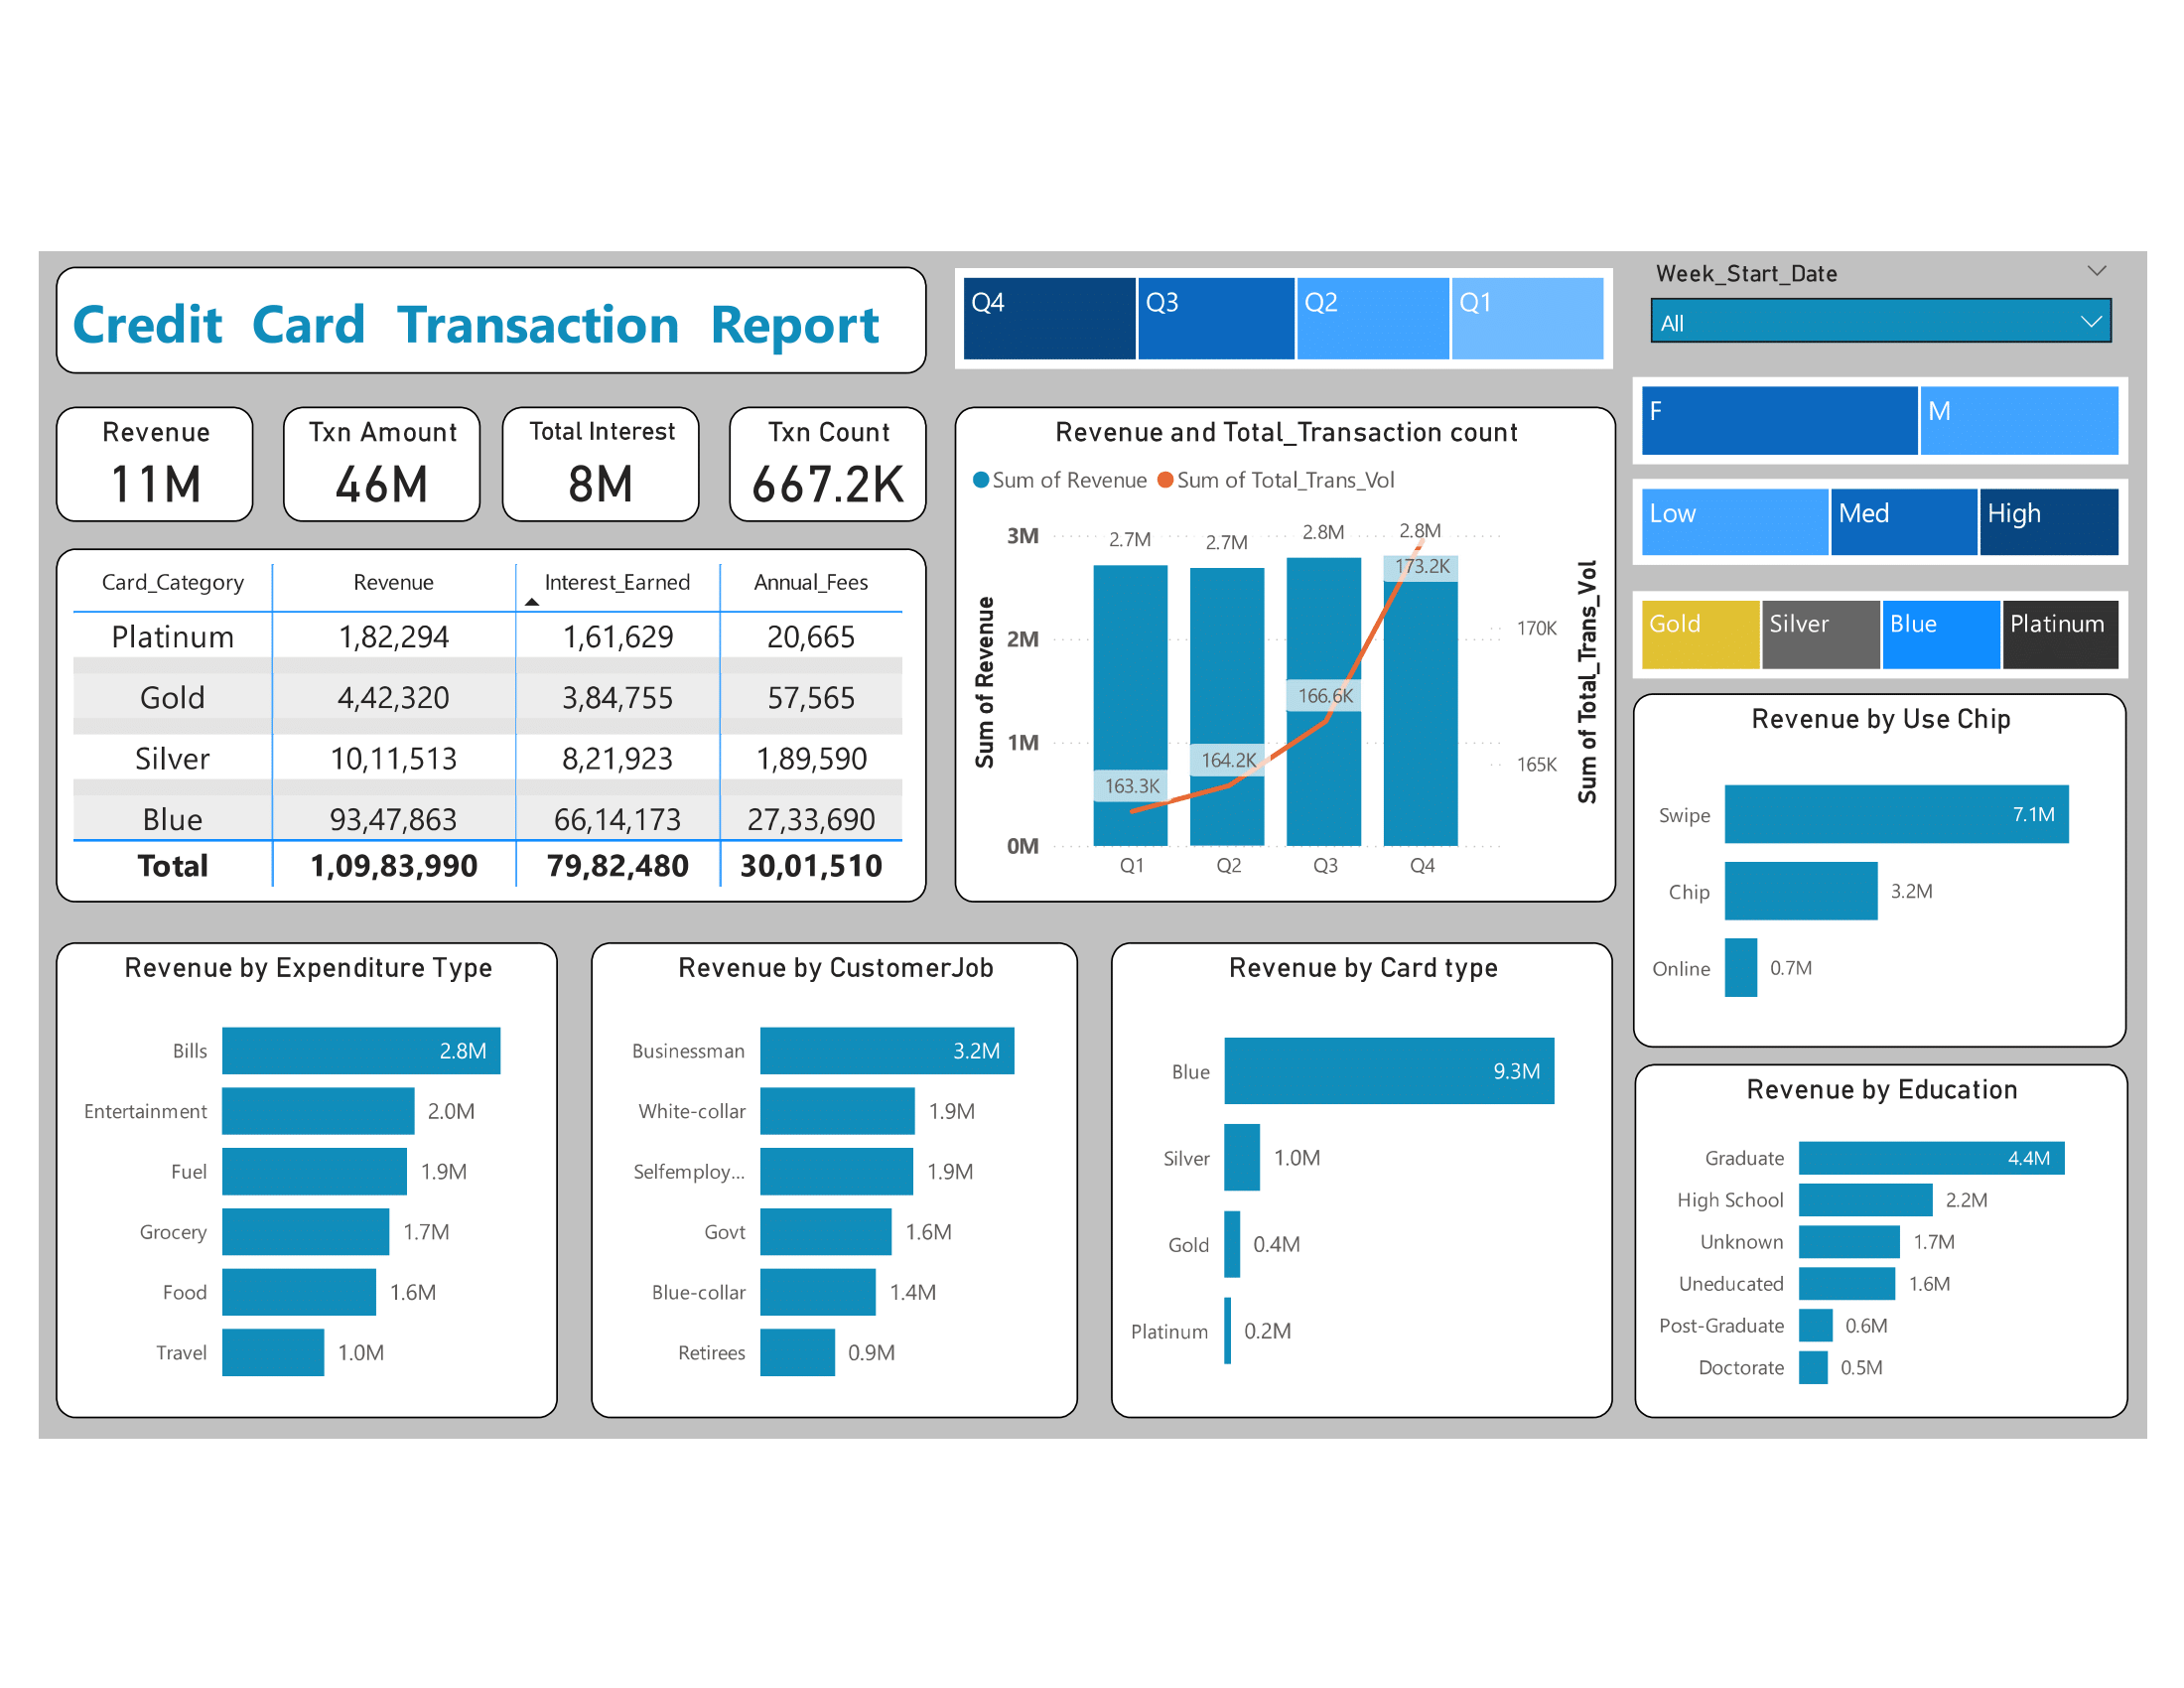

The page's visual inventory and layout, read from the dashboard file:
{"tool":"powerbi","page":{"name":"CC_Transaction ","canvas":[1280,720],"ordinal":1},"visuals":[{"type":"textbox","box":[10,8.8,528.8,65],"z":0},{"type":"lineStackedColumnComboChart","title":"Revenue and Total_Transaction count","fields":{"Category":["ccdb cc_detail.Qtr"],"Y":["Sum(ccdb cc_detail.Revenue)"],"Y2":["Sum(ccdb cc_detail.Total_Trans_Vol)"]},"box":[556.2,93.8,401.2,301.2],"z":1000},{"type":"barChart","title":" Revenue by Expenditure Type","fields":{"Y":["Sum(ccdb cc_detail.Revenue)"],"Category":["ccdb cc_detail.Exp Type"]},"box":[10,418.8,305,288.8],"z":2000},{"type":"barChart","title":" Revenue by Education","fields":{"Y":["Sum(ccdb cc_detail.Revenue)"],"Category":["ccdb cust_detail.Education_Level"]},"box":[968.8,492.5,300,215],"z":3000},{"type":"barChart","title":" Revenue by Card type","fields":{"Y":["Sum(ccdb cc_detail.Revenue)"],"Category":["ccdb cc_detail.Card_Category"]},"box":[651.2,418.8,305,288.8],"z":4000},{"type":"barChart","title":" Revenue by  CustomerJob","fields":{"Y":["Sum(ccdb cc_detail.Revenue)"],"Category":["ccdb cust_detail.Customer_Job"]},"box":[335,418.8,296.2,288.8],"z":5000},{"type":"barChart","title":" Revenue by Use Chip","fields":{"Y":["Sum(ccdb cc_detail.Revenue)"],"Category":["ccdb cc_detail.Use Chip"]},"box":[967.5,267.5,300,215],"z":6000},{"type":"tableEx","fields":{"Values":["ccdb cc_detail.Card_Category","Sum(ccdb cc_detail.Revenue)","Sum(ccdb cc_detail.Interest_Earned)","Sum(ccdb cc_detail.Annual_Fees)"]},"box":[10,180,528.8,215],"z":7000},{"type":"card","title":"Revenue","fields":{"Values":["Sum(ccdb cc_detail.Revenue)"]},"box":[10,93.8,120,70],"z":8000},{"type":"card","title":" Txn Amount","fields":{"Values":["Sum(ccdb cc_detail.Total_Trans_Amt)"]},"box":[147.5,93.8,120,70],"z":9000},{"type":"card","title":"Total Interest","fields":{"Values":["Sum(ccdb cc_detail.Interest_Earned)"]},"box":[281.2,93.8,120,70],"z":10000},{"type":"card","title":"Txn Count","fields":{"Values":["Sum(ccdb cc_detail.Total_Trans_Vol)"]},"box":[418.8,93.8,120,70],"z":11000},{"type":"slicer","fields":{"Values":["ccdb cc_detail.Week_Start_Date"]},"box":[968.8,0,300,72.5],"z":12000},{"type":"treemap","fields":{"Group":["ccdb cc_detail.Qtr"],"Values":["Avg(ccdb cc_detail.Client_Num)"]},"box":[556.2,10,400,61.2],"z":13000},{"type":"treemap","fields":{"Group":["ccdb cust_detail.IncomeGroup"],"Values":["CountNonNull(ccdb cc_detail.Client_Num)"]},"box":[967.5,137.5,301.2,52.5],"z":14000},{"type":"treemap","fields":{"Group":["ccdb cust_detail.Gender"],"Values":["CountNonNull(ccdb cc_detail.Card_Category)"]},"box":[967.5,76.2,301.2,52.5],"z":15000},{"type":"treemap","fields":{"Group":["ccdb cc_detail.Card_Category"],"Values":["Avg(ccdb cc_detail.Client_Num)"]},"box":[967.5,206.2,301.2,52.5],"z":16000}]}

Visuals, with their boxes on the page's 1280x720 design canvas (x1, y1, x2, y2). These are canvas units, not pixel positions in the 2184x1688 screenshot, which may show the page scaled, cropped or inside an application window:
textbox: detection(10, 9, 539, 74)
"Revenue and Total_Transaction count" lineStackedColumnComboChart: detection(556, 94, 957, 395)
" Revenue by Expenditure Type" barChart: detection(10, 419, 315, 708)
" Revenue by Education" barChart: detection(969, 492, 1269, 708)
" Revenue by Card type" barChart: detection(651, 419, 956, 708)
" Revenue by  CustomerJob" barChart: detection(335, 419, 631, 708)
" Revenue by Use Chip" barChart: detection(968, 268, 1268, 482)
tableEx - ccdb cc_detail.Card_Category x Sum(ccdb cc_detail.Revenue): detection(10, 180, 539, 395)
"Revenue" card: detection(10, 94, 130, 164)
" Txn Amount" card: detection(148, 94, 268, 164)
"Total Interest" card: detection(281, 94, 401, 164)
"Txn Count" card: detection(419, 94, 539, 164)
slicer - ccdb cc_detail.Week_Start_Date: detection(969, 0, 1269, 72)
treemap - ccdb cc_detail.Qtr x Avg(ccdb cc_detail.Client_Num): detection(556, 10, 956, 71)
treemap - ccdb cust_detail.IncomeGroup x CountNonNull(ccdb cc_detail.Client_Num): detection(968, 138, 1269, 190)
treemap - ccdb cust_detail.Gender x CountNonNull(ccdb cc_detail.Card_Category): detection(968, 76, 1269, 129)
treemap - ccdb cc_detail.Card_Category x Avg(ccdb cc_detail.Client_Num): detection(968, 206, 1269, 259)
